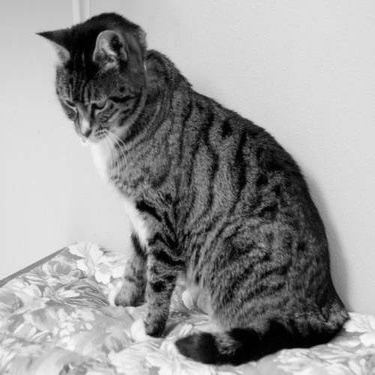cat: (33, 12, 348, 365)
